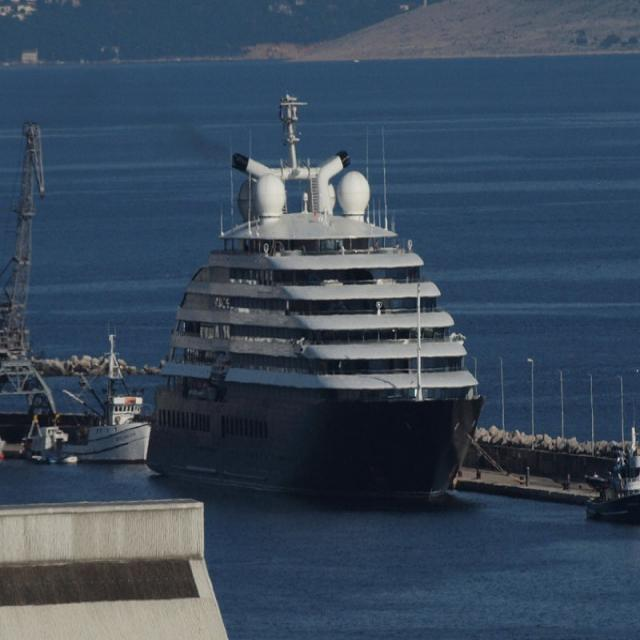cruises: (150, 119, 490, 516)
